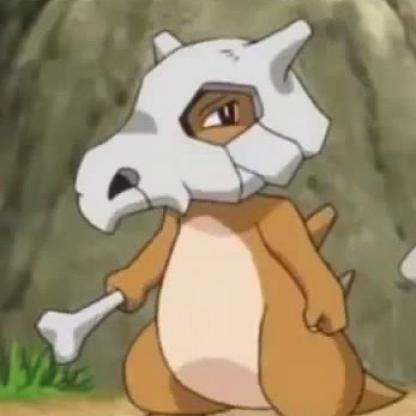Cubone: (36, 19, 409, 416)
